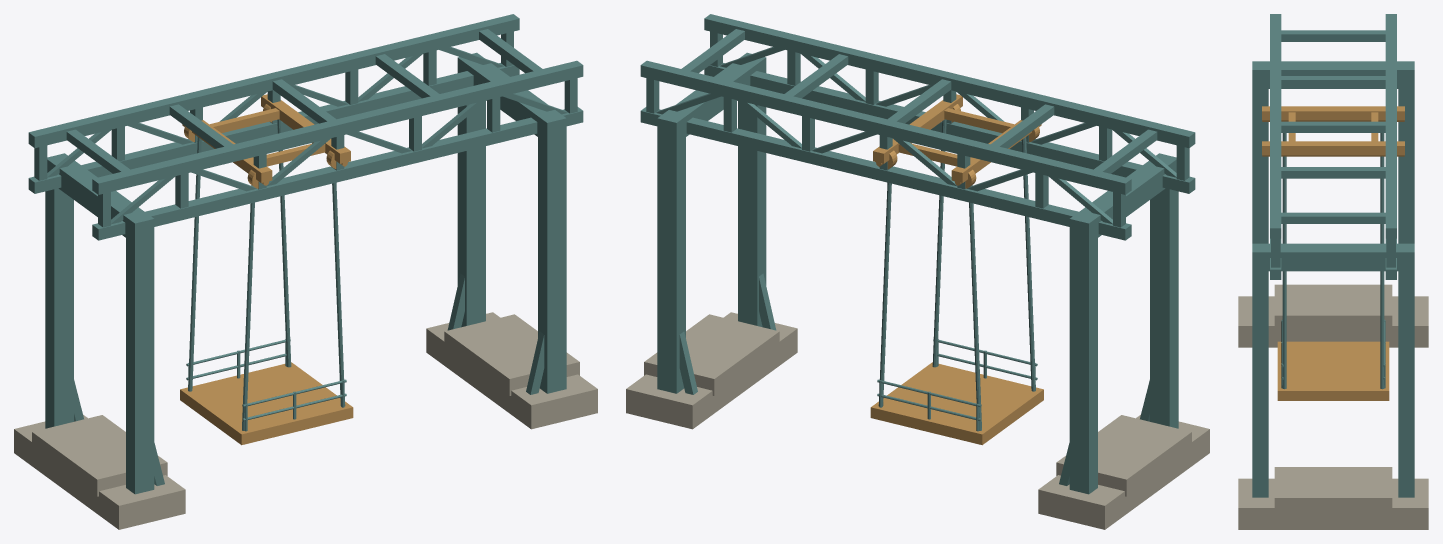
The picture shows the model from 3 angles, left to right: view 1: azimuth 30°, elevation 25°; view 2: azimuth 150°, elevation 25°; view 3: azimuth 270°, elevation 25°; orthographic projection. The views are drawn at different scales.
Visible parts, largest first — view 1: LeftWholeHighPortalTower, RightWholeHighPortalTower, FrontWholeFixedLongChord1, BackWholeFixedLongChord1, WholeShortSuspendedGondolaDeck, FrontWholeFixedLongChord0, LeftWholeApproachLanding, RightWholeApproachLanding, BackWholeFixedLongChord0, LeftWholeGroundedPier, RightWholeGroundedPier, WholeLongSuspensionRod01 (+11 smaller); view 2: LeftWholeHighPortalTower, RightWholeHighPortalTower, BackWholeFixedLongChord1, FrontWholeFixedLongChord1, WholeShortSuspendedGondolaDeck, BackWholeFixedLongChord0, LeftWholeApproachLanding, RightWholeApproachLanding, FrontWholeFixedLongChord0, LeftWholeGroundedPier, RightWholeGroundedPier, WholeLongSuspensionRod00 (+11 smaller); view 3: RightWholeHighPortalTower, LeftWholeHighPortalTower, WholeShortSuspendedGondolaDeck, RightWholeApproachLanding, LeftWholeApproachLanding, RightWholeGroundedPier, LeftWholeGroundedPier, FrontWholeFixedLongChord1, BackWholeFixedLongChord1, WholeCarriageCrossbar1, WholeCarriageCrossbar0, WholeFixedOverheadCrossTie0 (+9 smaller).
Part boxes in pixels (left/top/right/bottom): LeftWholeHighPortalTower: left=45, top=153, right=154, bottom=494; RightWholeHighPortalTower: left=457, top=52, right=566, bottom=393; FrontWholeFixedLongChord1: left=92, top=60, right=583, bottom=194; BackWholeFixedLongChord1: left=28, top=14, right=519, bottom=148; WholeShortSuspendedGondolaDeck: left=180, top=362, right=353, bottom=445; FrontWholeFixedLongChord0: left=92, top=107, right=583, bottom=240; LeftWholeApproachLanding: left=32, top=415, right=167, bottom=496; RightWholeApproachLanding: left=444, top=314, right=579, bottom=395; BackWholeFixedLongChord0: left=28, top=63, right=519, bottom=193; LeftWholeGroundedPier: left=14, top=414, right=185, bottom=529; RightWholeGroundedPier: left=426, top=312, right=597, bottom=429; WholeLongSuspensionRod01: left=188, top=137, right=201, bottom=391; LeftWholeHighPortalTower: left=1069, top=153, right=1178, bottom=494; RightWholeHighPortalTower: left=657, top=52, right=766, bottom=393; BackWholeFixedLongChord1: left=640, top=60, right=1131, bottom=194; FrontWholeFixedLongChord1: left=704, top=14, right=1195, bottom=148; WholeShortSuspendedGondolaDeck: left=870, top=362, right=1043, bottom=445; BackWholeFixedLongChord0: left=640, top=107, right=1131, bottom=240; LeftWholeApproachLanding: left=1056, top=415, right=1191, bottom=496; RightWholeApproachLanding: left=644, top=314, right=779, bottom=395; FrontWholeFixedLongChord0: left=704, top=63, right=1195, bottom=193; LeftWholeGroundedPier: left=1038, top=414, right=1209, bottom=529; RightWholeGroundedPier: left=626, top=312, right=797, bottom=429; WholeLongSuspensionRod00: left=1022, top=137, right=1035, bottom=391; RightWholeHighPortalTower: left=1252, top=243, right=1414, bottom=497; LeftWholeHighPortalTower: left=1252, top=61, right=1414, bottom=243; WholeShortSuspendedGondolaDeck: left=1277, top=341, right=1389, bottom=400; RightWholeApproachLanding: left=1274, top=467, right=1392, bottom=513; LeftWholeApproachLanding: left=1274, top=284, right=1392, bottom=331; RightWholeGroundedPier: left=1238, top=478, right=1428, bottom=529; LeftWholeGroundedPier: left=1238, top=296, right=1428, bottom=347; FrontWholeFixedLongChord1: left=1270, top=14, right=1281, bottom=238; BackWholeFixedLongChord1: left=1385, top=14, right=1396, bottom=238; WholeCarriageCrossbar1: left=1262, top=141, right=1404, bottom=155; WholeCarriageCrossbar0: left=1262, top=106, right=1404, bottom=120; WholeFixedOverheadCrossTie0: left=1281, top=30, right=1385, bottom=41.
Size of the model in its own units: 8 by 5.27 by 3.
